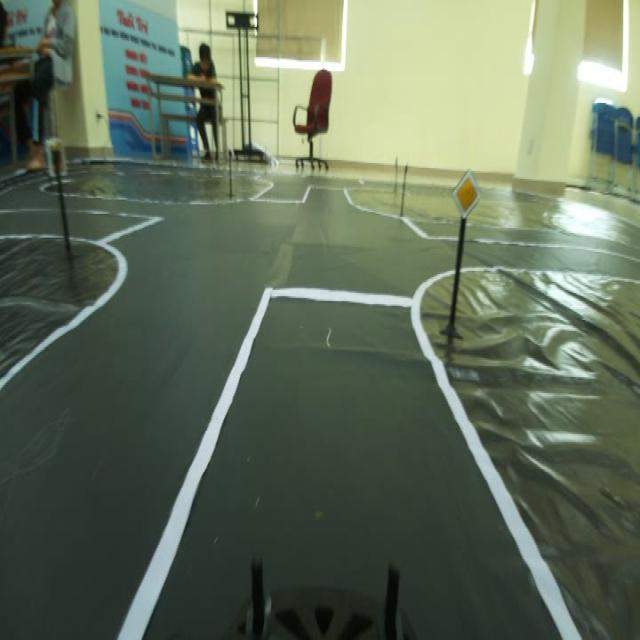priority: (448, 168, 485, 223)
